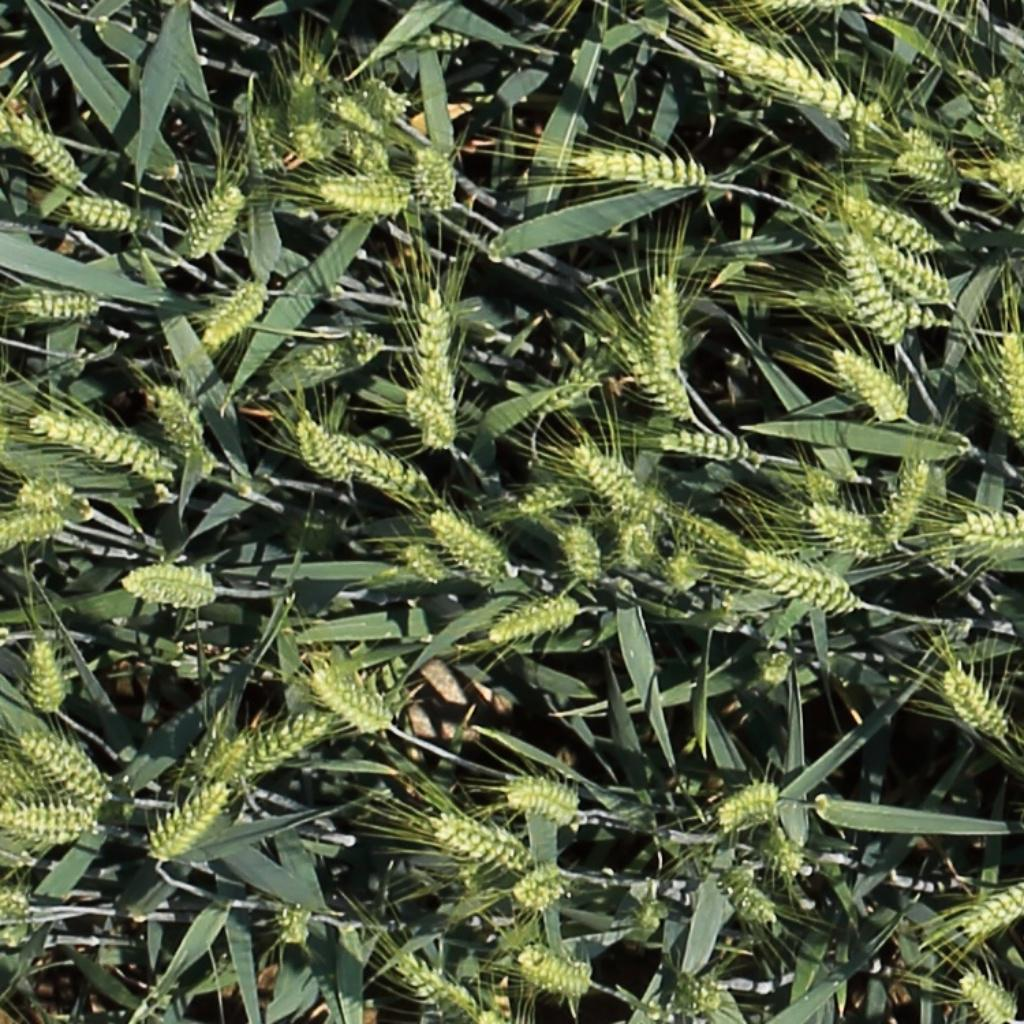0-0: (705, 24, 888, 136), (531, 323, 634, 427), (0, 88, 100, 193), (416, 287, 476, 434), (568, 146, 714, 203), (36, 416, 173, 476), (741, 543, 858, 613), (778, 286, 955, 330), (377, 948, 478, 1024), (270, 60, 341, 166), (617, 330, 696, 423), (845, 229, 907, 345), (311, 162, 417, 229), (430, 513, 522, 588), (327, 430, 439, 491), (426, 815, 536, 877), (308, 666, 400, 737), (19, 733, 106, 808), (274, 335, 394, 389), (148, 786, 230, 862), (570, 443, 645, 524), (835, 346, 912, 423), (115, 560, 231, 610), (151, 383, 212, 477), (0, 798, 102, 853), (899, 123, 963, 210), (845, 193, 939, 251), (880, 456, 937, 550), (942, 667, 1011, 744), (245, 714, 333, 774), (182, 177, 244, 259), (495, 773, 585, 827), (395, 24, 565, 52), (513, 941, 600, 995), (294, 412, 356, 487), (873, 244, 954, 301), (805, 501, 888, 553), (320, 118, 394, 175), (712, 780, 787, 834), (204, 281, 268, 342), (974, 365, 1021, 447), (954, 970, 1021, 1024), (946, 508, 1024, 553), (488, 604, 581, 641), (405, 383, 457, 449), (719, 872, 778, 928), (416, 136, 457, 214), (652, 266, 682, 372), (983, 73, 1021, 154), (204, 733, 255, 793), (968, 884, 1024, 936), (11, 293, 115, 320), (756, 830, 810, 882), (358, 75, 412, 127), (30, 632, 61, 720), (566, 520, 606, 588), (65, 197, 147, 230), (419, 656, 471, 708), (999, 327, 1024, 434), (612, 494, 647, 569), (334, 94, 391, 140), (669, 973, 727, 1018), (674, 514, 744, 549), (249, 101, 282, 174), (893, 150, 958, 185), (660, 434, 753, 457), (986, 150, 1024, 206), (401, 544, 450, 584), (748, 646, 792, 690), (273, 899, 309, 948), (0, 517, 64, 544), (0, 757, 38, 801), (632, 894, 673, 934), (0, 881, 36, 920), (16, 486, 73, 510), (662, 555, 698, 592), (518, 491, 573, 513), (472, 1007, 509, 1024)
